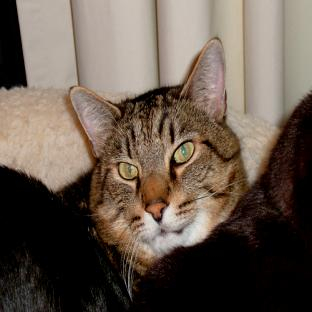Animal: (1, 39, 247, 311)
